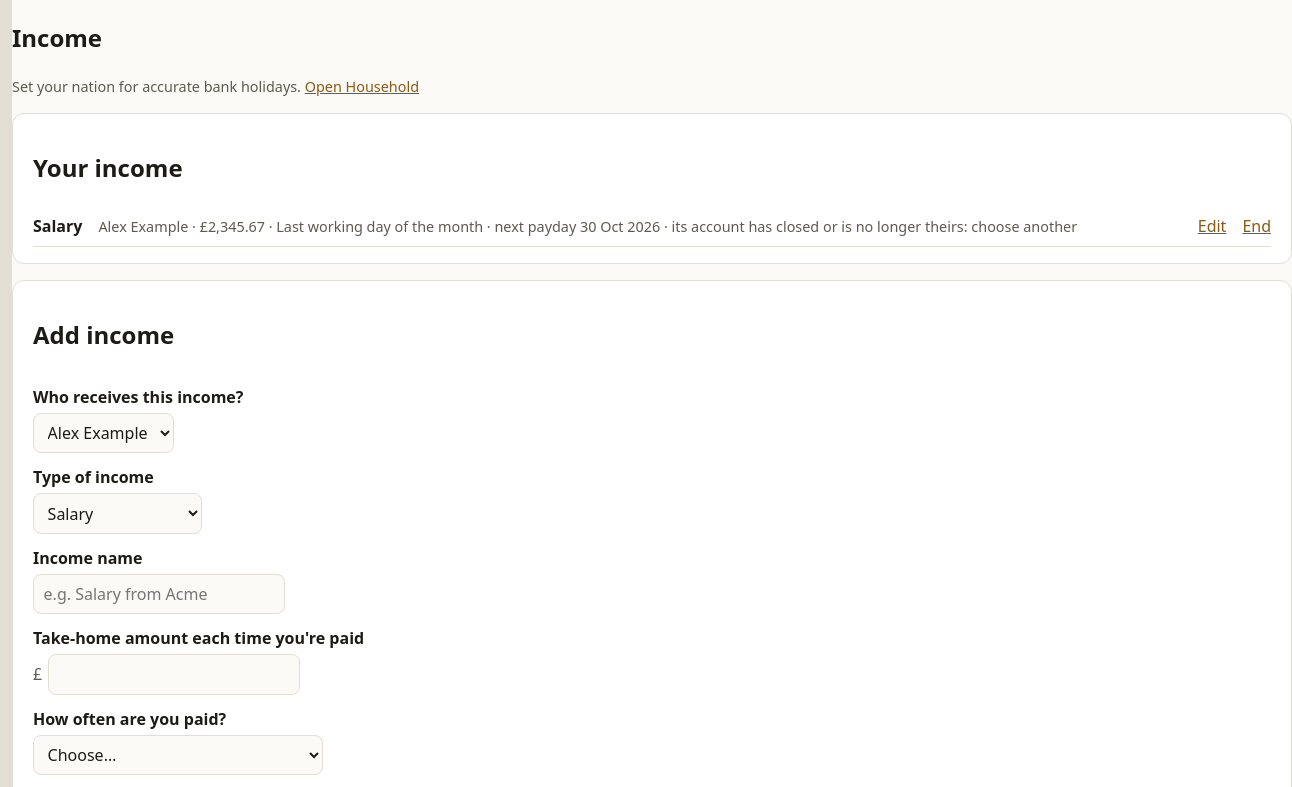
Scenario: an income whose account closed is shown as needing a new one, and the edit form says so
The width and height of the screenshot is (1292, 787).
Expected: the text "its account has closed or is no longer theirs: choose another" is shown, left=98, top=217, right=1077, bottom=236
Click the button with aria-label "Edit Salary". click: click(1212, 226)
box: left=1198, top=214, right=1226, bottom=238
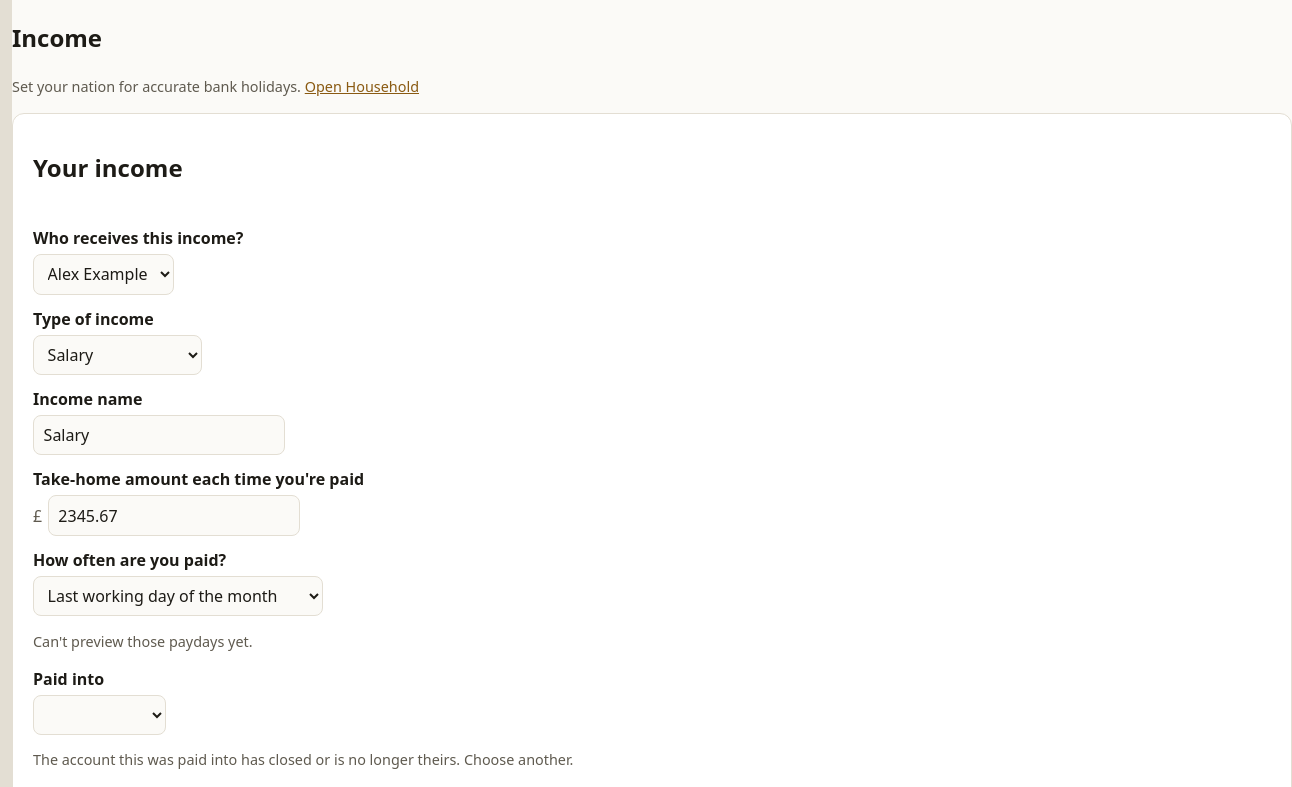
Expected: the text "The account this was paid into has closed or is no longer theirs. Choose another." is shown, left=33, top=750, right=574, bottom=769
